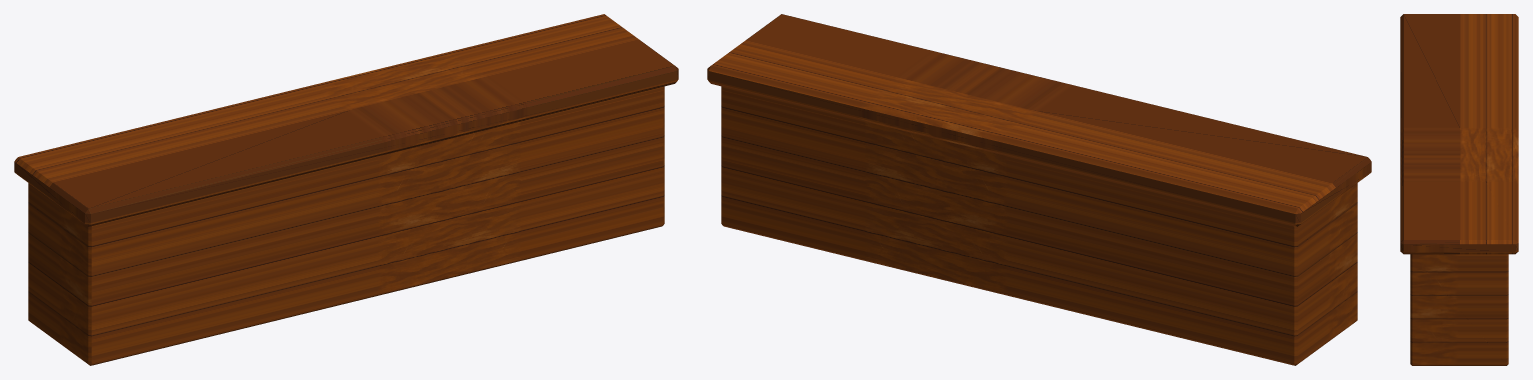
File: bar_counter_material_variant.fbx
3 renders of one model, left to right at view 1: azimuth 30°, elevation 25°; view 2: azimuth 150°, elevation 25°; view 3: azimuth 270°, elevation 25°, orthographic. The views are drawn at different scales.
Parts seen in each view (by area): view 1: CounterBody, CounterTop; view 2: CounterBody, CounterTop; view 3: CounterTop, CounterBody.
Boxes of the visible parts, bbox=[...] form: CounterBody: bbox=[28, 86, 664, 365]; CounterTop: bbox=[14, 14, 678, 226]; CounterBody: bbox=[721, 86, 1357, 365]; CounterTop: bbox=[707, 14, 1371, 226]; CounterTop: bbox=[1400, 14, 1518, 254]; CounterBody: bbox=[1410, 254, 1508, 365].
Bounding box in the file's own units: 4.12 × 1.08 × 0.9.
Materials: 1 (1 with a texture image).
